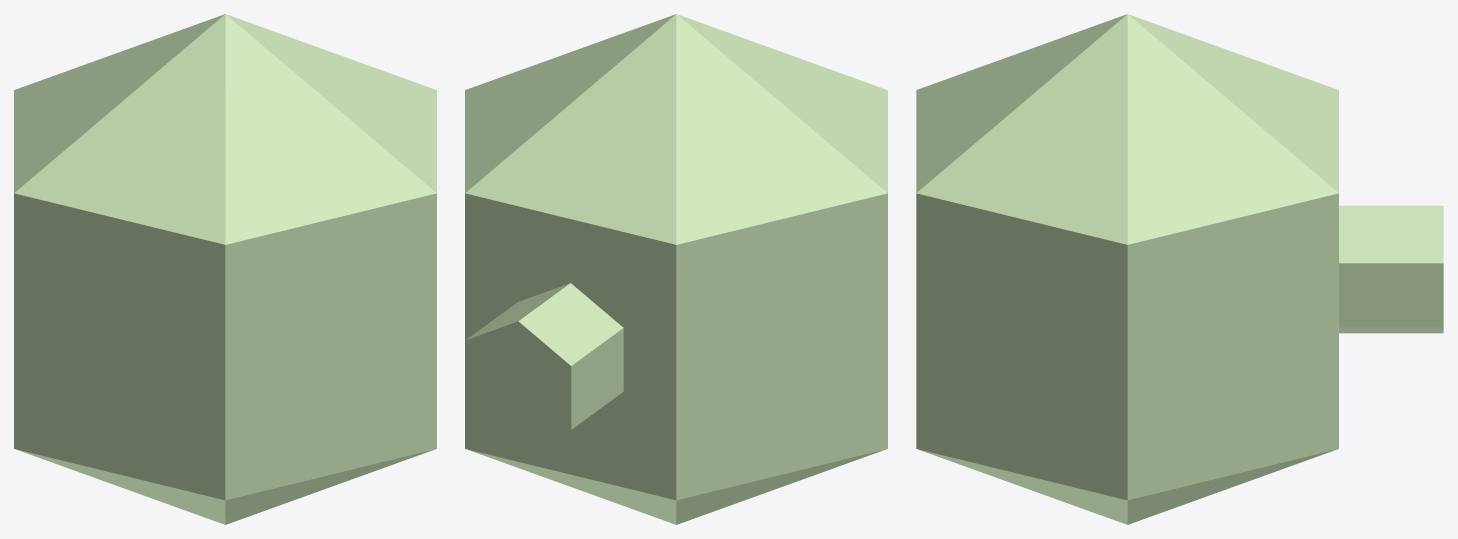
Rendered from basiccellcaster.glb.
The picture shows the model from 3 angles, left to right: view 1: azimuth 30°, elevation 25°; view 2: azimuth 150°, elevation 25°; view 3: azimuth 270°, elevation 25°; orthographic projection.
Visible parts, largest first — view 1: Sphere; view 2: Sphere, Cylinder; view 3: Sphere, Cylinder.
Boxes of the visible parts, <box> form: Sphere: <box>14,14,436,524</box>; Sphere: <box>465,14,887,524</box>; Cylinder: <box>465,283,623,448</box>; Sphere: <box>916,14,1338,524</box>; Cylinder: <box>1339,205,1443,333</box>.
Bounding box in the file's own units: 0.866 × 1 × 0.9358.
